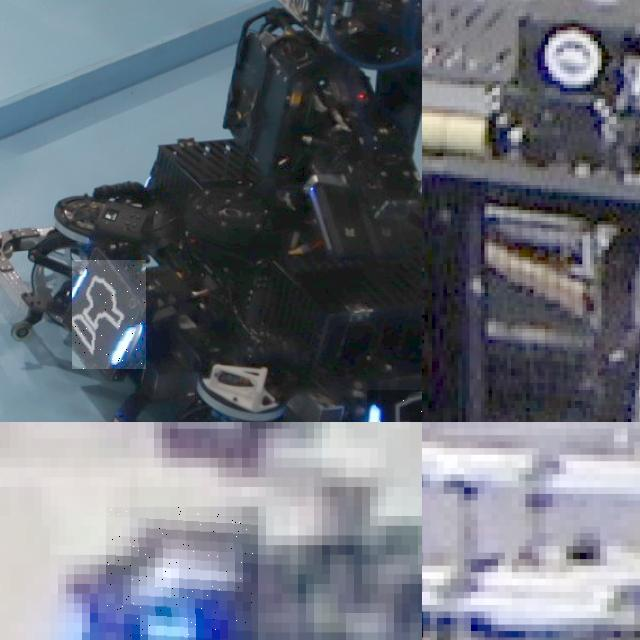B4: (106, 506, 258, 640)
Bs: (72, 260, 146, 369), (367, 390, 422, 422)
